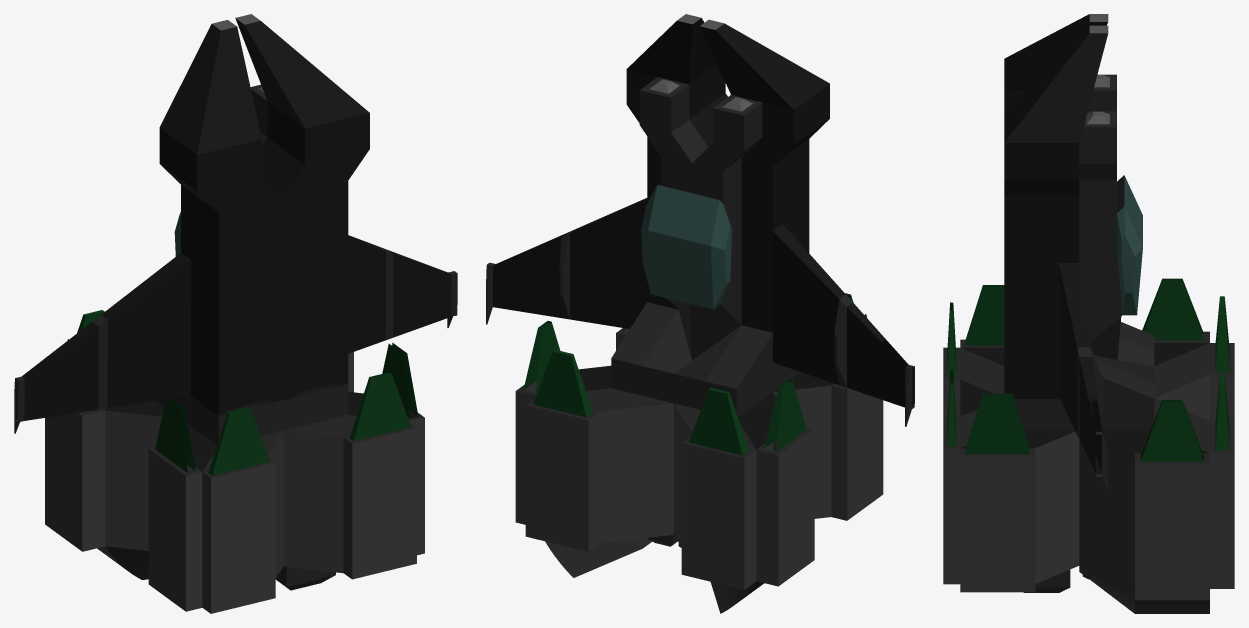
File: ship5new.fbx
3 renders of one model, left to right at view 1: azimuth 30°, elevation 25°; view 2: azimuth 150°, elevation 25°; view 3: azimuth 270°, elevation 25°, orthographic. The views are drawn at different scales.
Visible parts, largest first — view 1: Cube; view 2: Cube; view 3: Cube.
Part boxes in pixels (left/top/right/bottom): Cube: left=14, top=14, right=457, bottom=613; Cube: left=486, top=14, right=914, bottom=613; Cube: left=943, top=14, right=1234, bottom=613.
Bounding box in the file's own units: 677 × 814 × 389.
